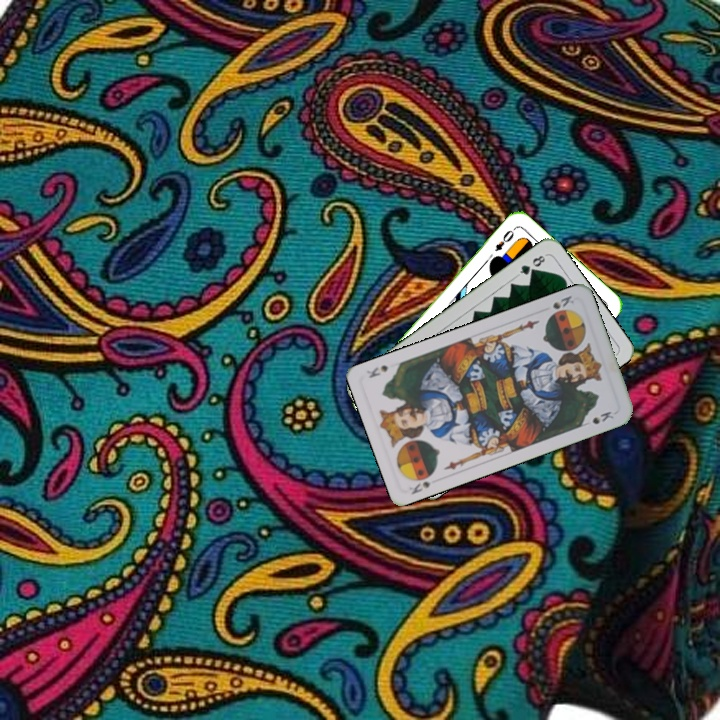EO: (491, 224, 518, 254)
G8: (513, 251, 549, 279)
SK: (405, 469, 437, 497), (545, 291, 576, 319)
